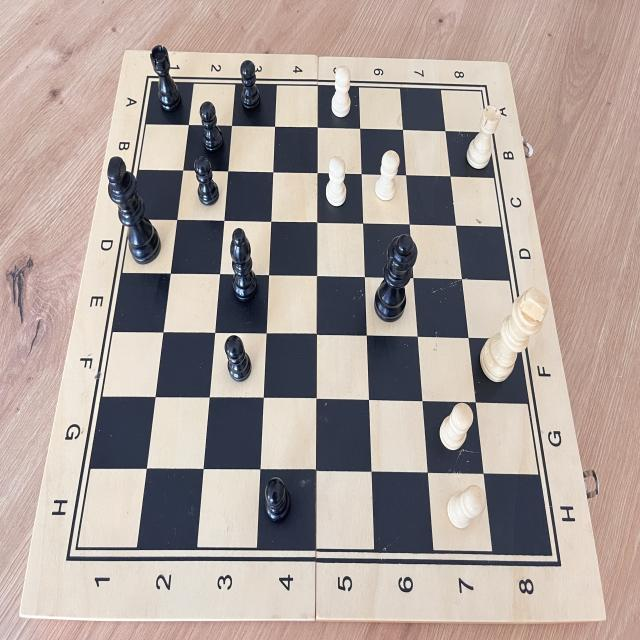black-bishop: (219, 222, 266, 310)
black-king: (103, 152, 165, 267)
black-pawn: (187, 152, 224, 217), (260, 466, 297, 528), (193, 94, 228, 159), (236, 56, 267, 120), (221, 331, 256, 386)
black-queen: (369, 226, 420, 327)
black-rook: (146, 38, 184, 116)
white-king: (474, 283, 552, 395)
white-pawn: (442, 473, 492, 542), (432, 392, 476, 462), (371, 144, 403, 208), (326, 58, 356, 124), (320, 153, 352, 212)
white-rook: (464, 96, 502, 180)
